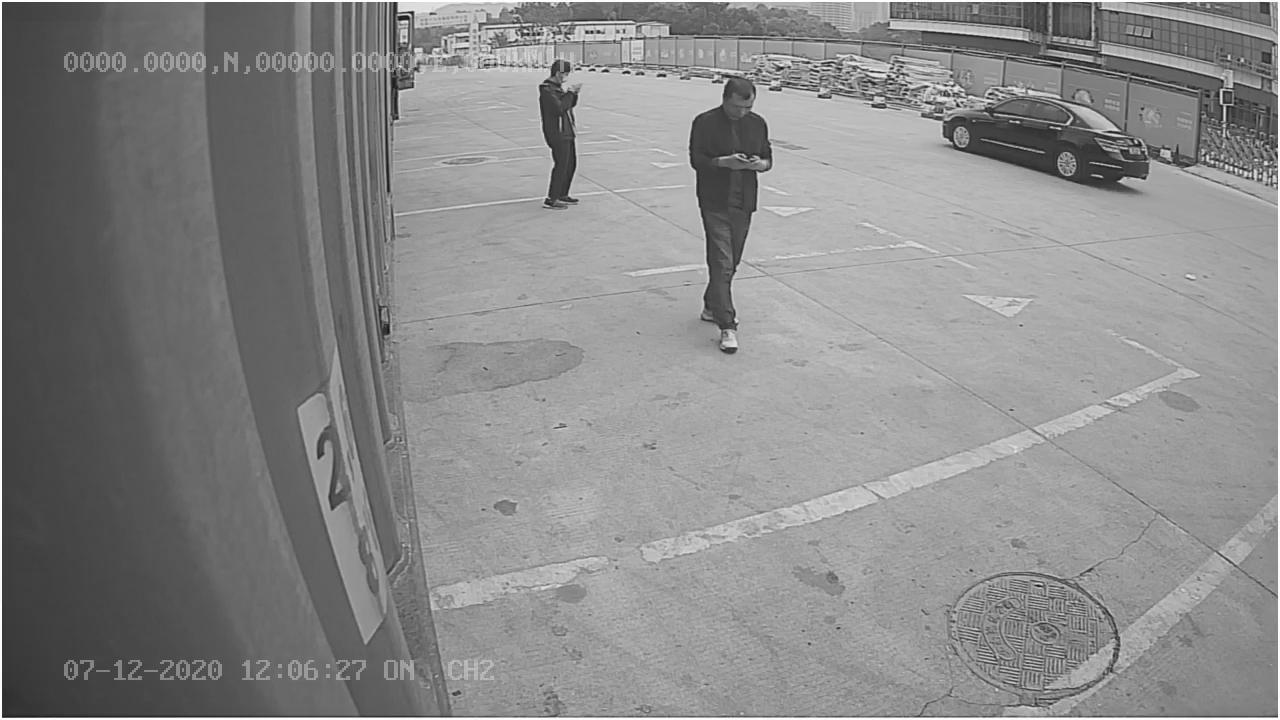person: (688, 73, 776, 353)
